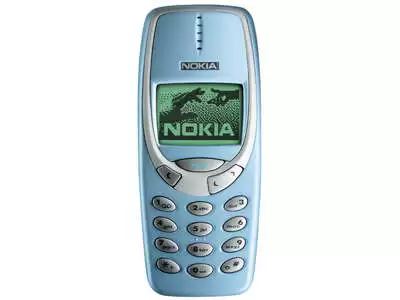Phone: (137, 4, 263, 298)
